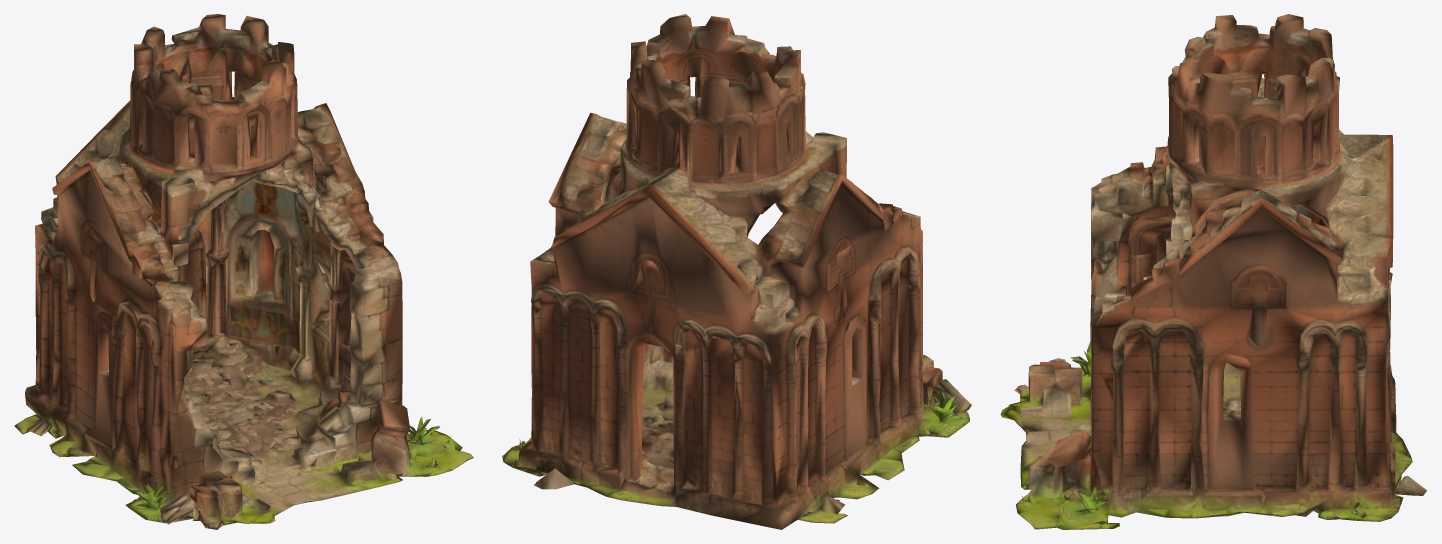
Rendered from city_kars_ani_chapel.glb.
The picture shows the model from 3 angles, left to right: view 1: azimuth 30°, elevation 25°; view 2: azimuth 150°, elevation 25°; view 3: azimuth 270°, elevation 25°; orthographic projection. The views are drawn at different scales.
Parts seen in each view (by area): view 1: Mesh1.0; view 2: Mesh1.0; view 3: Mesh1.0.
Part boxes in pixels (bbox=[...]): Mesh1.0: bbox=[14, 14, 473, 529]; Mesh1.0: bbox=[502, 14, 971, 529]; Mesh1.0: bbox=[1000, 14, 1427, 529].
Bounding box in the file's own units: 7.95 × 9 × 8.7.
Materials: 1 (1 with a texture image).
